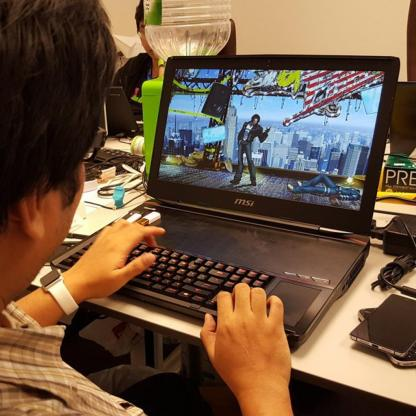board: (50, 54, 401, 352)
